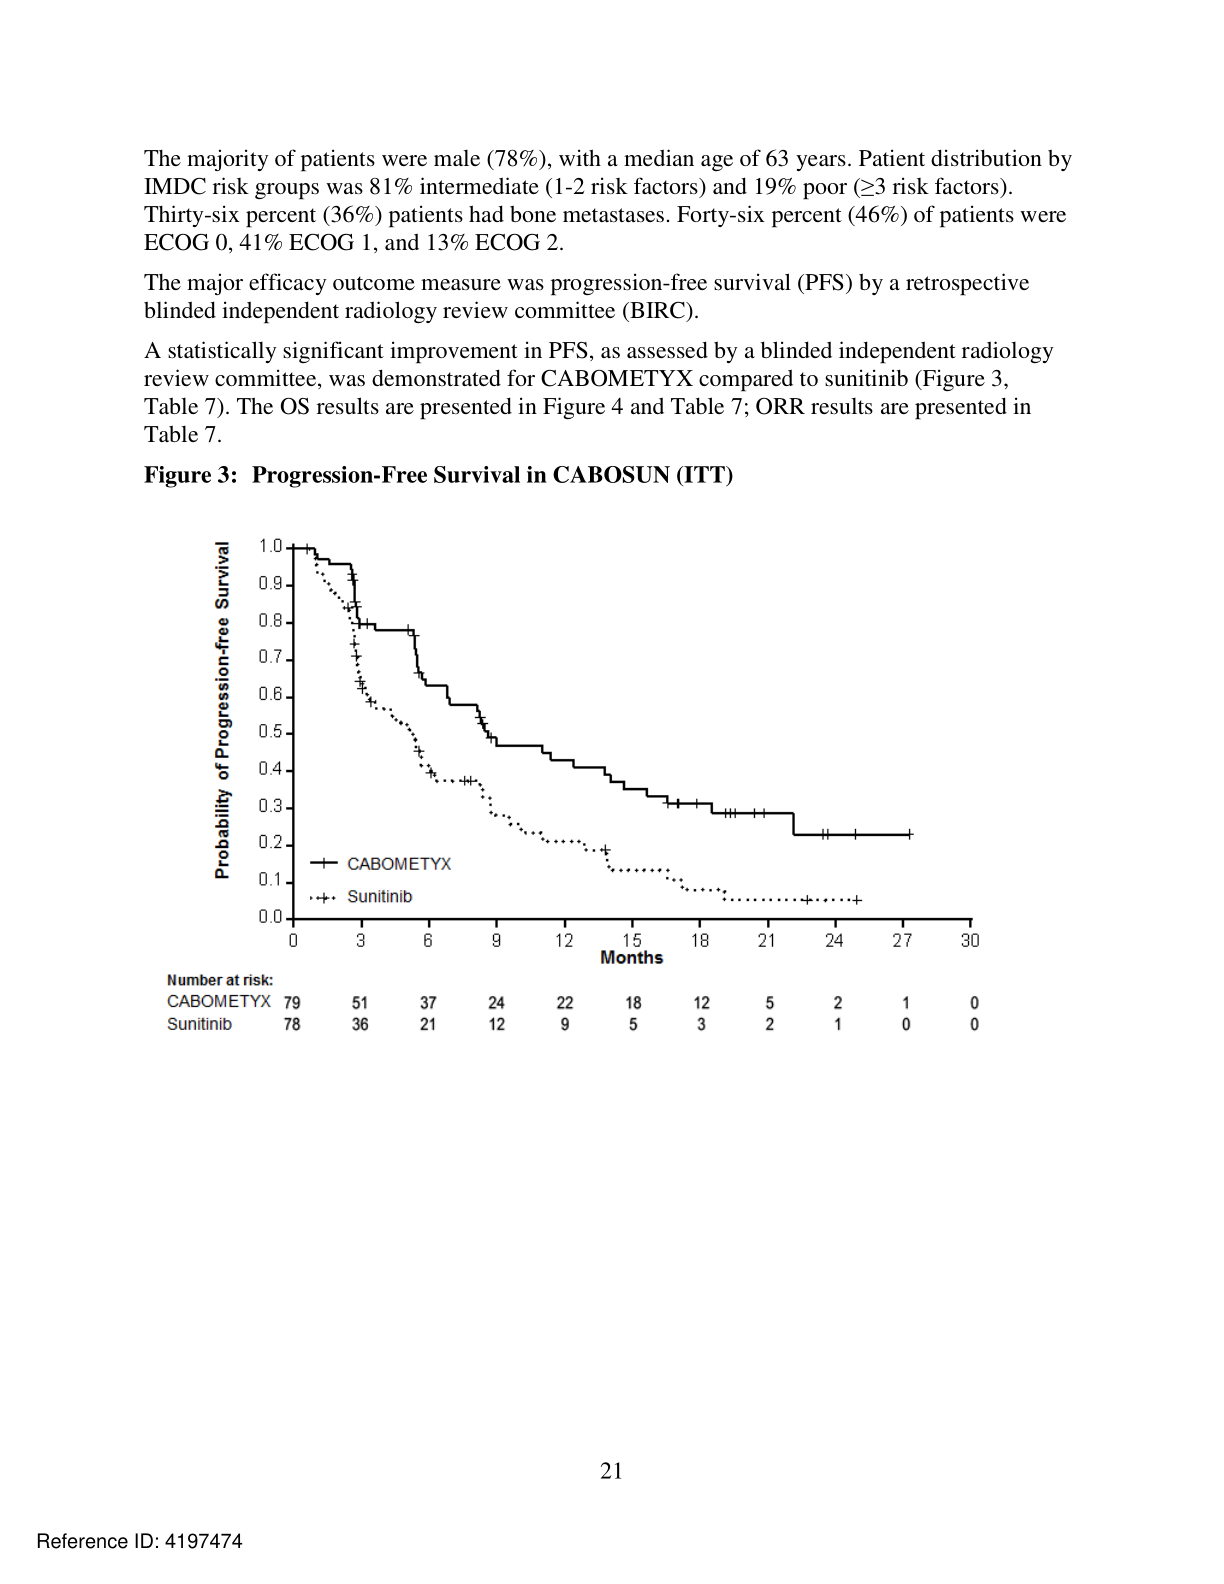nolines: (165, 990, 982, 1036)
